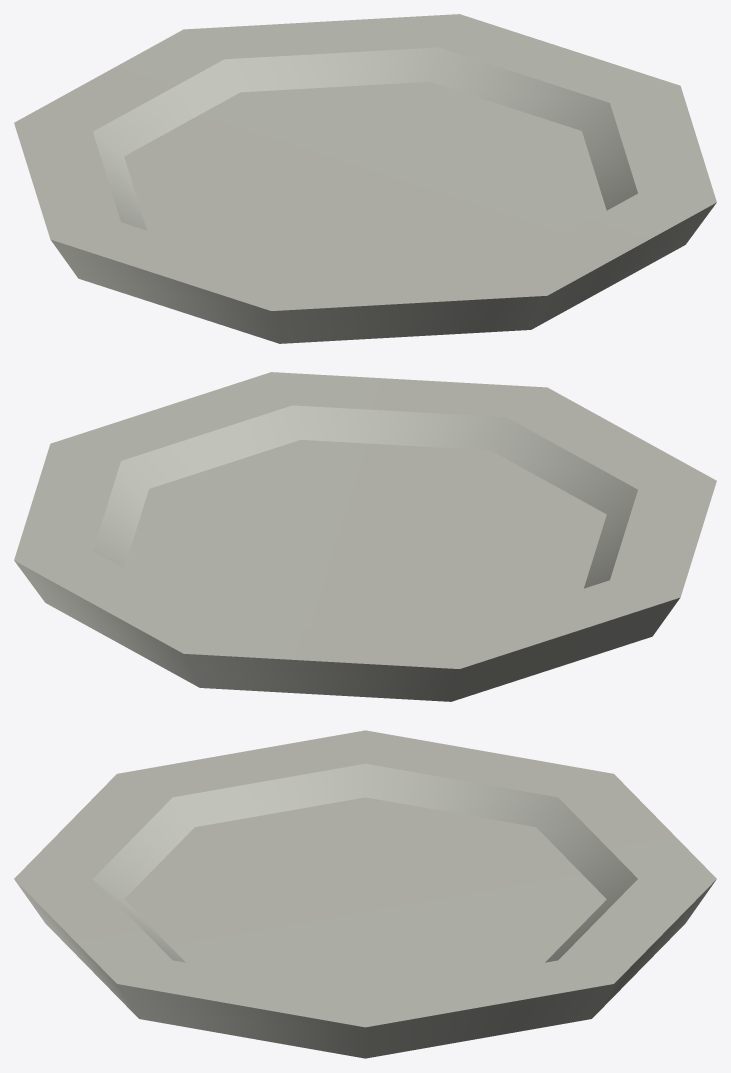
Rendered from Plate_1_A.fbx.
3 renders of one model, top to bottom at view 1: azimuth 30°, elevation 25°; view 2: azimuth 150°, elevation 25°; view 3: azimuth 270°, elevation 25°, orthographic. The views are drawn at different scales.
Parts seen in each view (by area): view 1: Plate_1_A; view 2: Plate_1_A; view 3: Plate_1_A.
Part boxes in pixels (left/top/right/bottom): Plate_1_A: left=14, top=14, right=716, bottom=343; Plate_1_A: left=14, top=372, right=716, bottom=701; Plate_1_A: left=14, top=730, right=716, bottom=1058.
Bounding box in the file's own units: 38.95 × 2.72 × 38.95.
